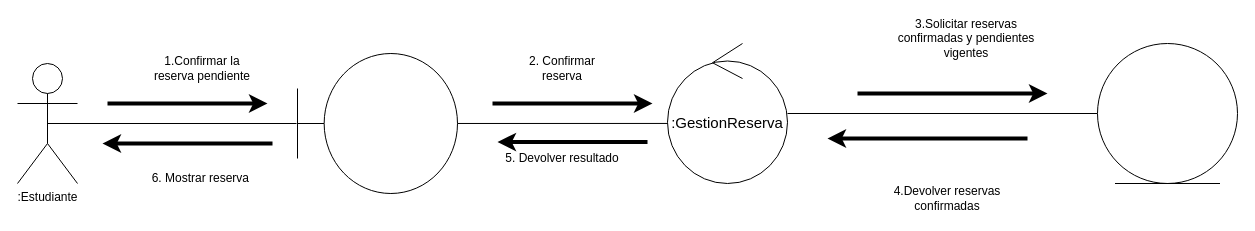
The diagram is 1255 pixels wide and 231 high, and some of its shapes have lost their labels. The shapes that lost their labels are listed below. From the top down, each one's centre as x and y in pixels, then its label:
At point 377,123: ":PantallaEvento".
At point 1167,113: ":Reserva".
